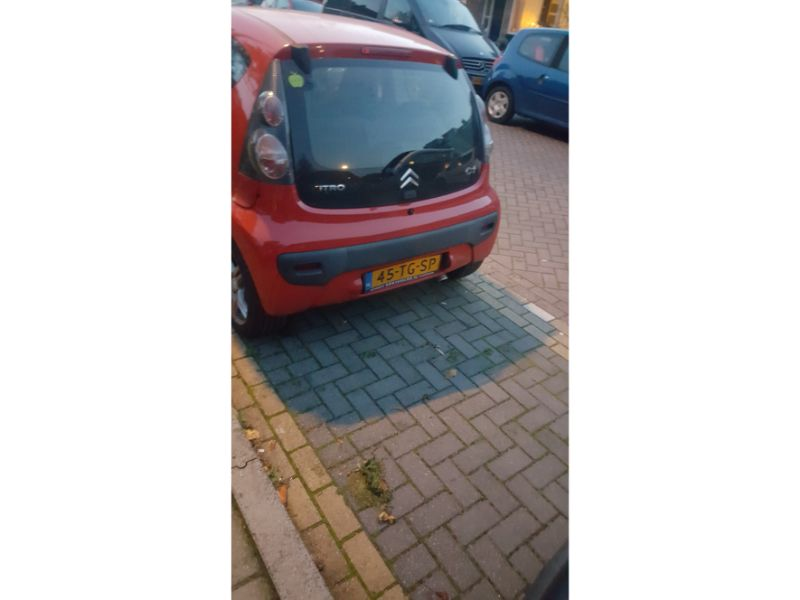kenteken: (361, 251, 452, 292)
